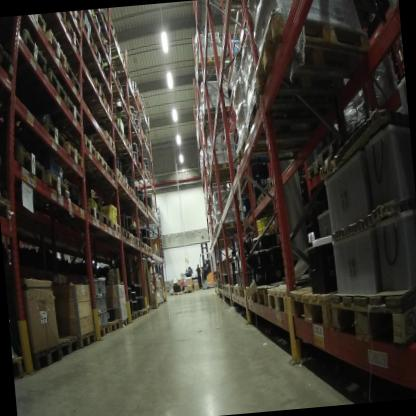forklift: (195, 239, 218, 290)
pallet: (8, 51, 238, 190), (234, 5, 374, 171), (328, 275, 416, 353), (290, 279, 352, 336), (9, 113, 68, 157), (3, 24, 50, 78), (267, 276, 320, 318), (13, 340, 66, 379), (62, 322, 111, 355), (302, 144, 341, 183), (38, 29, 72, 72), (45, 63, 69, 108), (252, 274, 280, 309), (79, 42, 106, 77), (0, 24, 17, 79), (43, 169, 72, 200), (237, 165, 266, 195), (79, 131, 101, 168), (56, 329, 83, 359), (97, 74, 126, 101), (77, 77, 108, 102), (89, 131, 119, 156), (72, 17, 95, 48), (67, 18, 85, 57), (214, 218, 249, 238), (65, 139, 85, 173), (84, 94, 112, 117), (94, 113, 124, 134), (66, 95, 84, 129), (207, 159, 236, 180), (90, 36, 112, 61), (0, 189, 15, 222), (108, 53, 129, 76), (21, 14, 50, 30), (90, 12, 106, 41), (107, 164, 126, 188), (86, 201, 103, 224), (96, 148, 110, 175), (106, 61, 121, 85), (147, 298, 168, 314), (124, 97, 145, 113), (49, 12, 70, 27), (106, 18, 119, 41), (266, 175, 279, 197), (108, 317, 123, 334), (246, 282, 257, 305), (101, 210, 113, 230), (131, 158, 144, 174), (112, 219, 124, 236), (122, 225, 133, 243), (117, 127, 128, 145), (120, 315, 131, 332), (239, 285, 249, 301), (261, 182, 269, 201), (256, 190, 264, 207), (124, 176, 132, 193), (129, 181, 136, 200), (234, 284, 242, 300), (243, 211, 251, 226), (134, 235, 142, 249), (133, 307, 142, 319), (252, 199, 259, 214), (183, 288, 194, 297), (140, 306, 149, 317), (172, 289, 184, 297), (248, 206, 254, 220), (129, 233, 136, 245), (134, 194, 141, 206), (231, 284, 236, 298), (139, 201, 146, 211), (143, 241, 149, 252), (149, 245, 153, 255)
